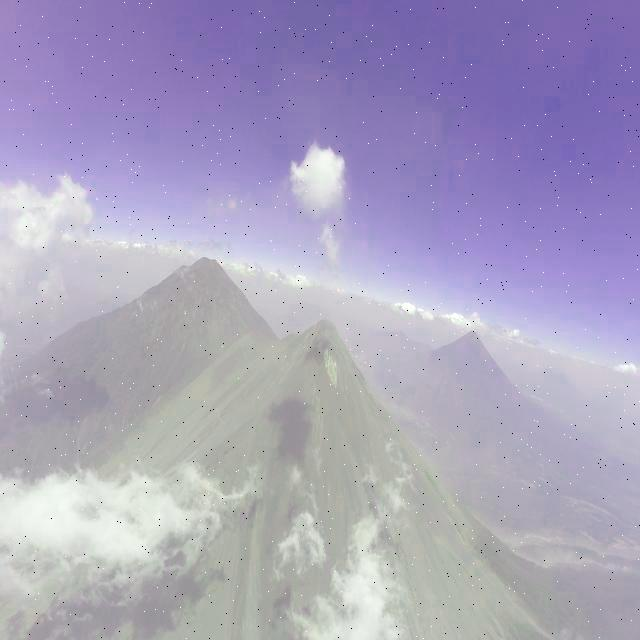Summit: (276, 312, 367, 390)
